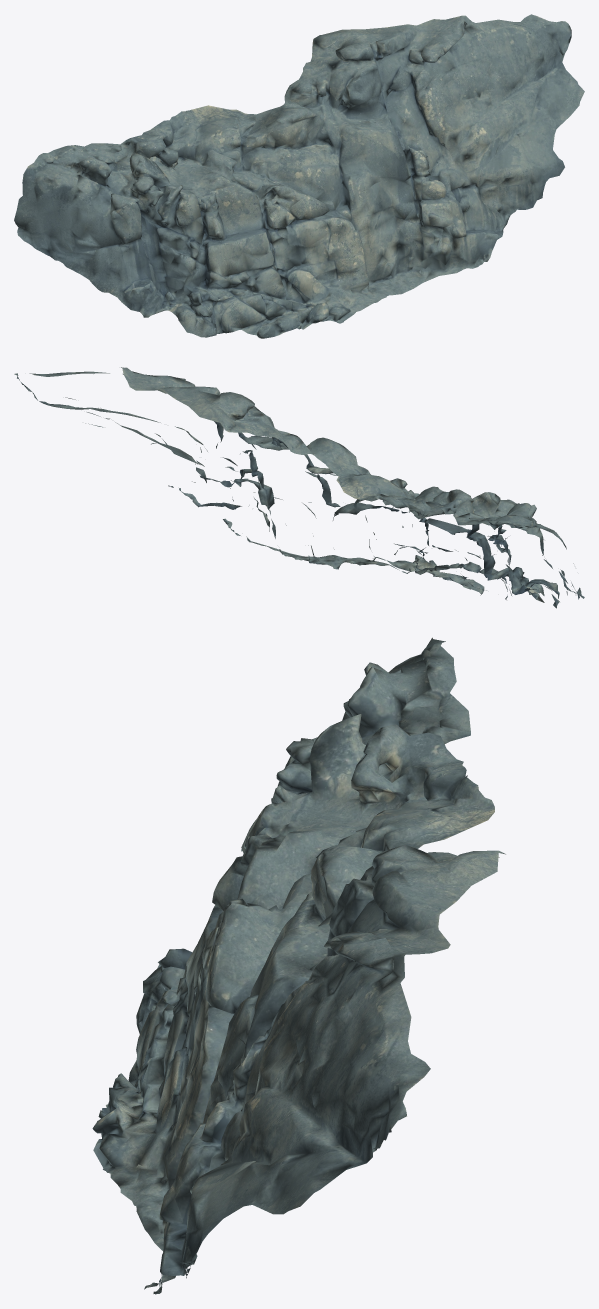
The model's file is cliff-near.glb.
The picture shows the model from 3 angles, top to bottom: view 1: azimuth 30°, elevation 25°; view 2: azimuth 150°, elevation 25°; view 3: azimuth 270°, elevation 25°; orthographic projection. The views are drawn at different scales.
Parts seen in each view (by area): view 1: drone_rock_02_LOD0; view 2: drone_rock_02_LOD0; view 3: drone_rock_02_LOD0.
Boxes of the visible parts, x1,y1,x2,y2 form: drone_rock_02_LOD0: [14, 14, 584, 338]; drone_rock_02_LOD0: [14, 367, 584, 608]; drone_rock_02_LOD0: [92, 637, 505, 1294].
Size of the model in its own units: 45.05 by 15.99 by 14.69.
1 material, 1 textured.
